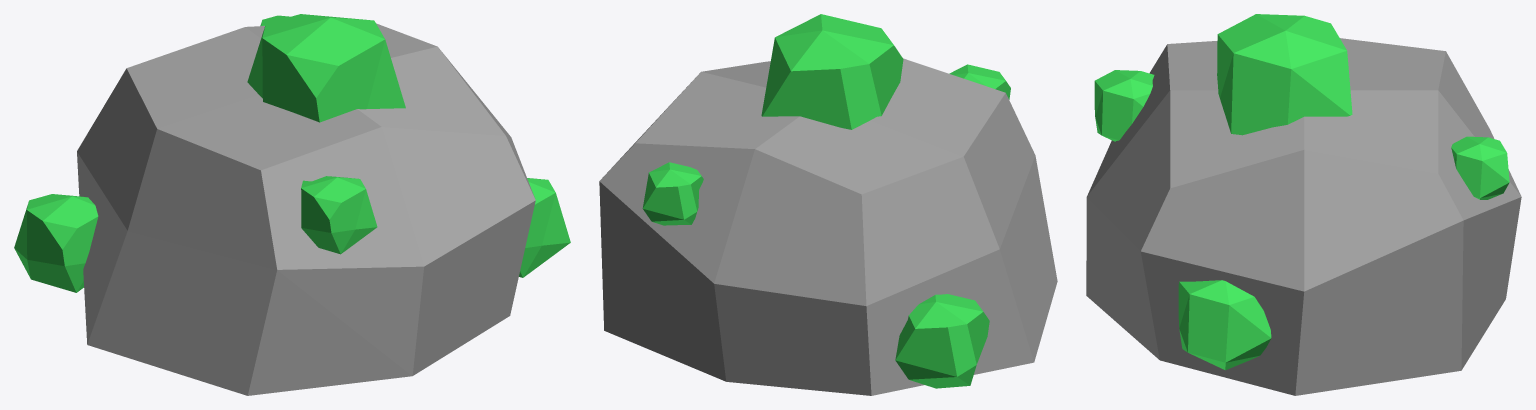
Rendered from ore3.fbx.
3 views of the same model, side by side, from view 1: azimuth 30°, elevation 25°; view 2: azimuth 150°, elevation 25°; view 3: azimuth 270°, elevation 25° (orthographic). The views are drawn at different scales.
Visible parts, largest first — view 1: Cube.006, Cube.016; view 2: Cube.006, Cube.016; view 3: Cube.006, Cube.016.
Part boxes in pixels (bbox=[...]): Cube.006: bbox=[77, 23, 535, 395]; Cube.016: bbox=[14, 14, 570, 292]; Cube.006: bbox=[599, 58, 1057, 395]; Cube.016: bbox=[642, 14, 1010, 388]; Cube.006: bbox=[1086, 38, 1521, 395]; Cube.016: bbox=[1094, 14, 1509, 370].
Bounding box in the file's own units: 362 × 225 × 324.
